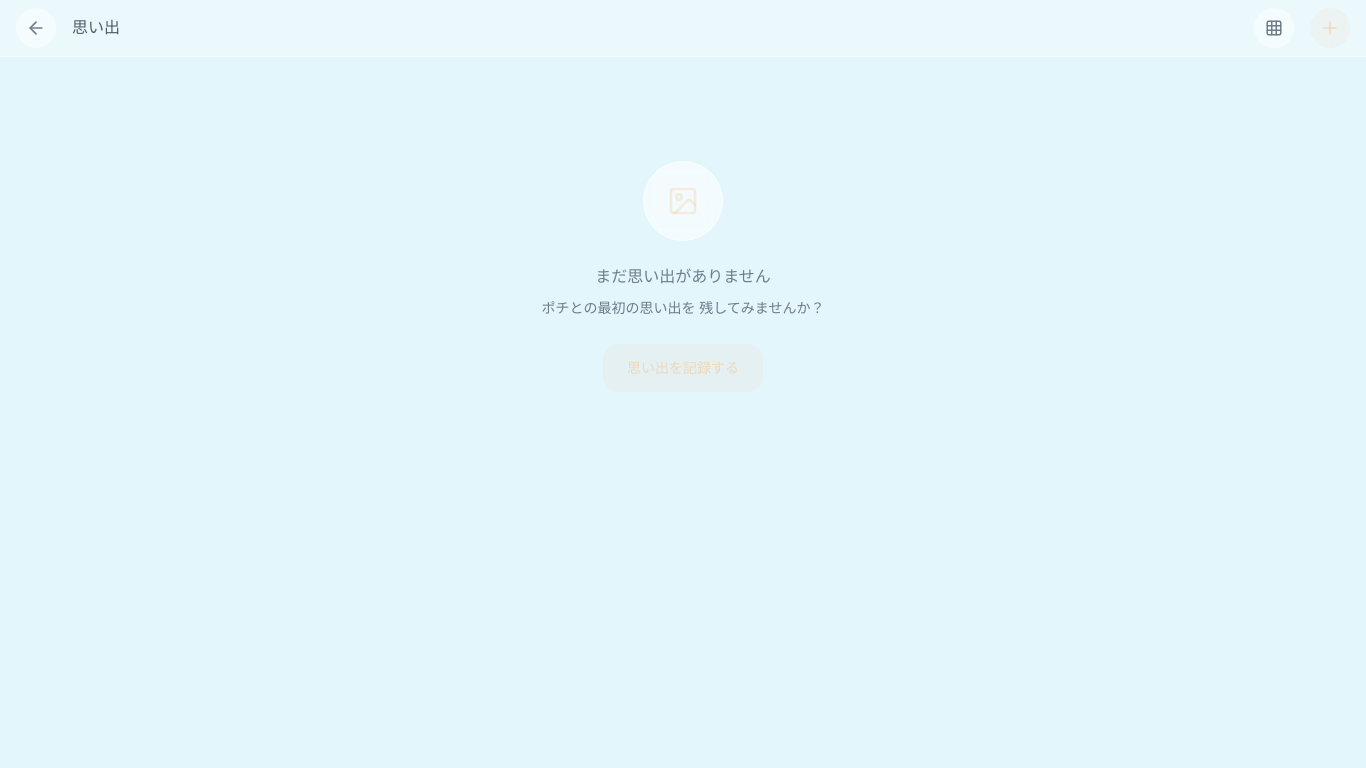
Scenario: TimelineScreen — 保存完了フィードバック › 閉じるボタンをクリックするとモーダルが閉じる
Click the button "思い出を記録する": (683, 368) top-left (603, 344), bottom-right (763, 392)
(page scrolled)
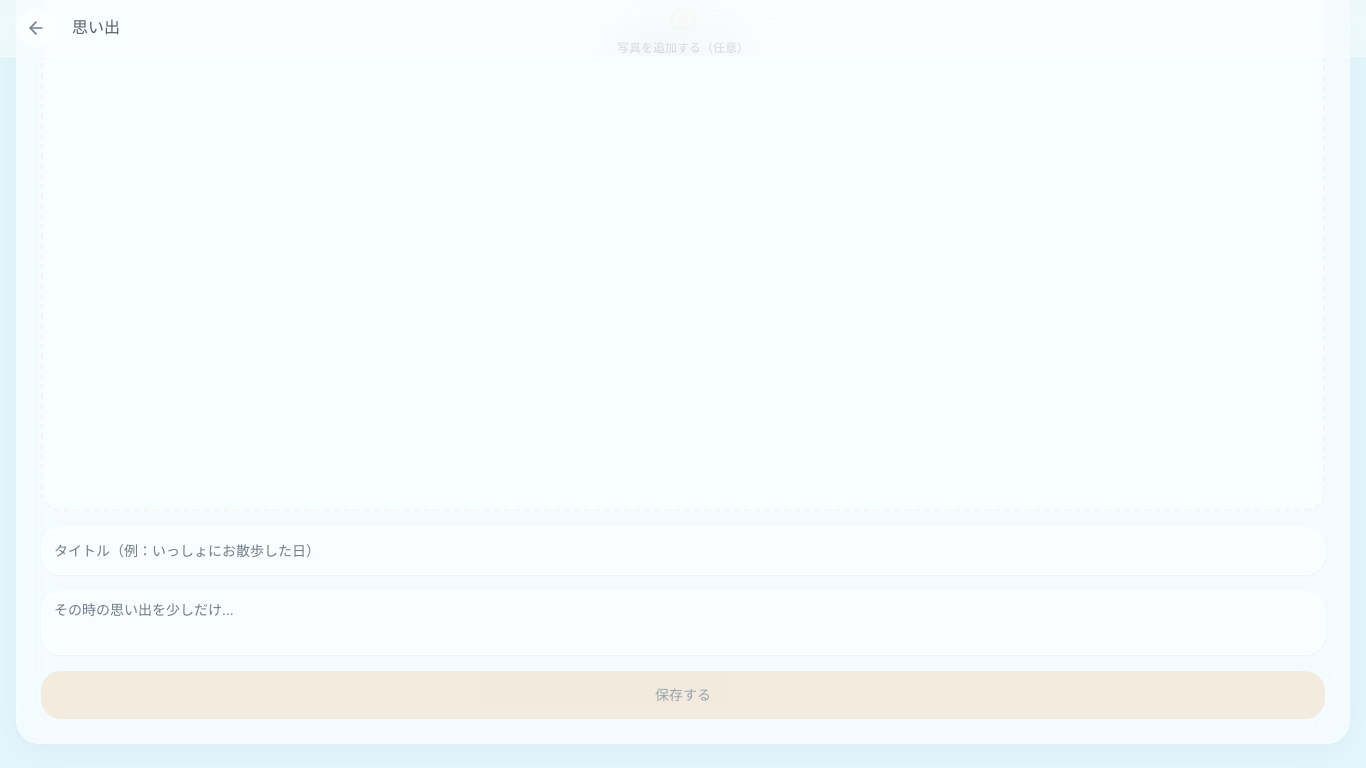
In the field with placeholder "タイトル（例：いっしょにお散歩した日）": (683, 551) top-left (41, 527), bottom-right (1325, 575), type "散歩した日"
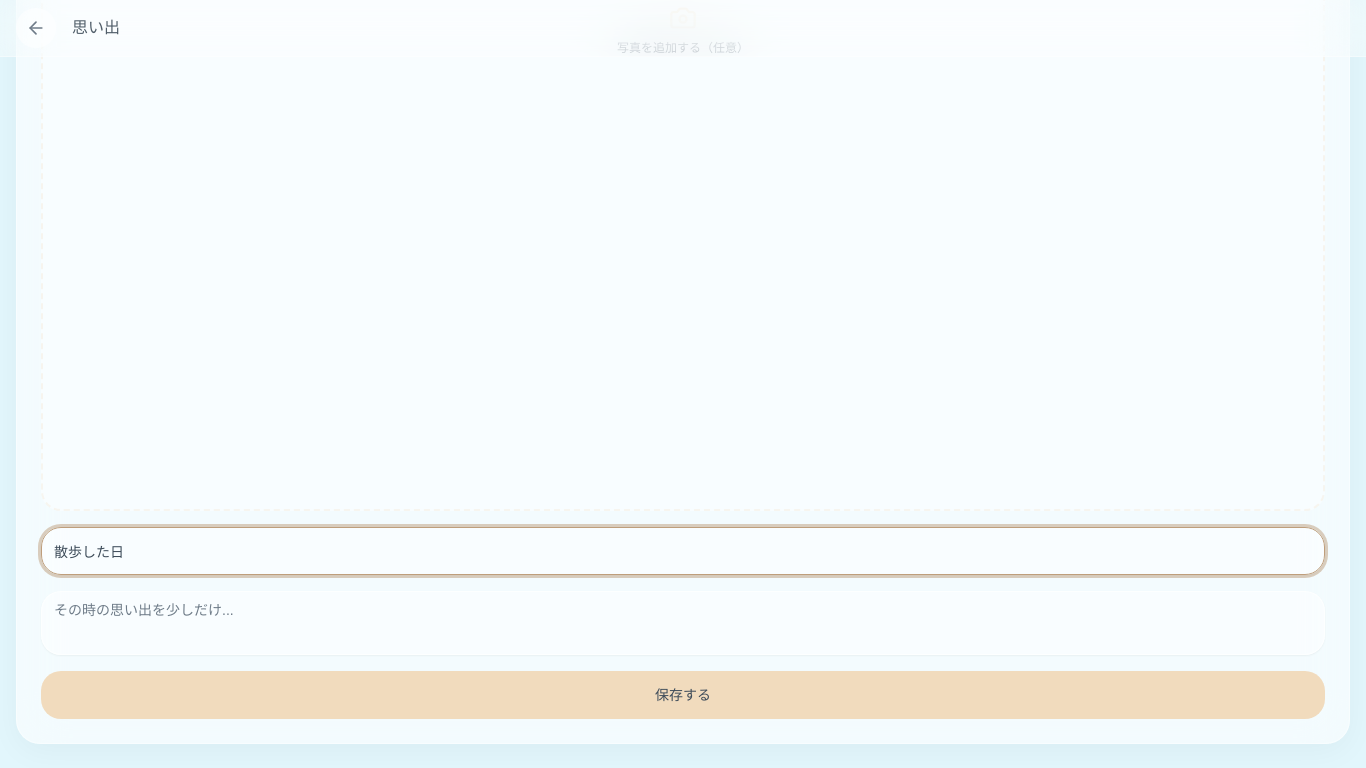
Click the button "保存する": (683, 695) top-left (41, 671), bottom-right (1325, 719)
(page scrolled)
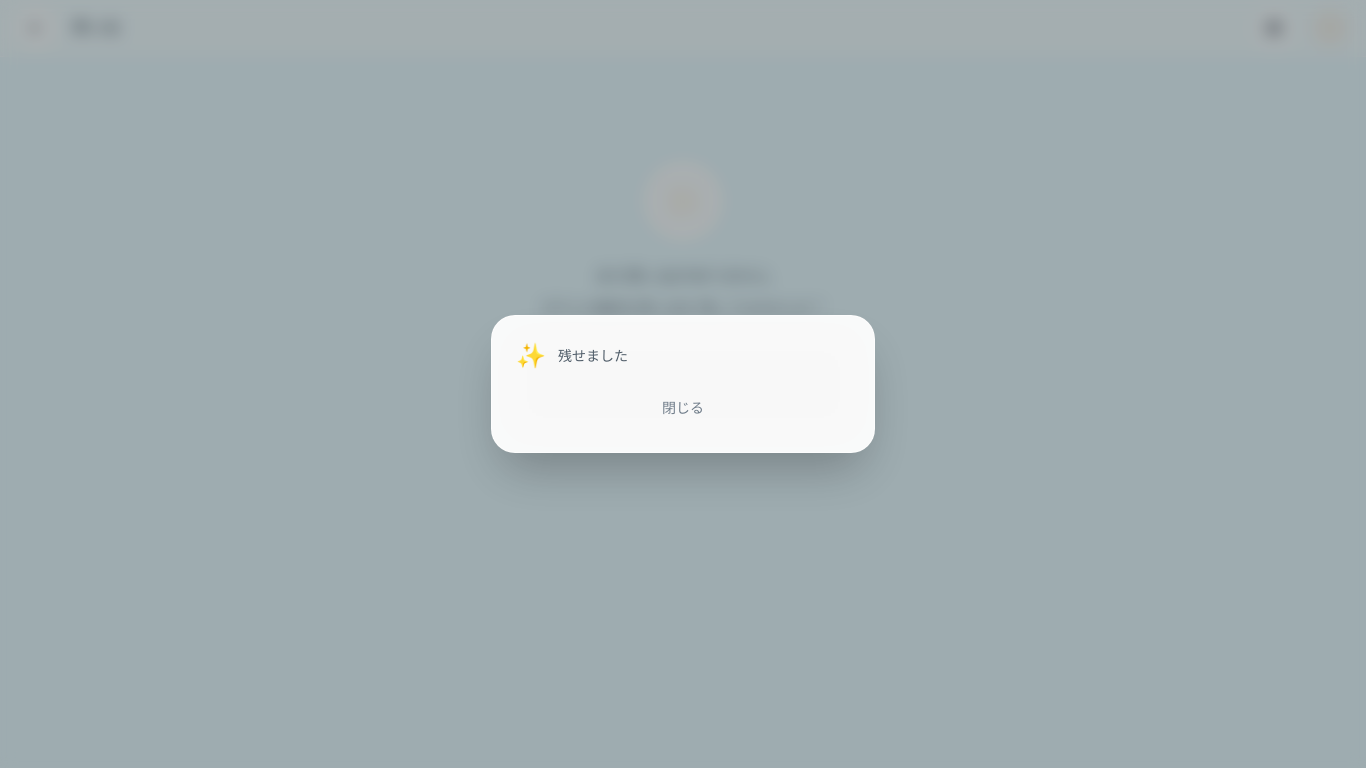
Result: the text "残せました" is shown at top-left (558, 346), bottom-right (628, 366)
Click the button "閉じる": (683, 408) top-left (516, 388), bottom-right (850, 428)
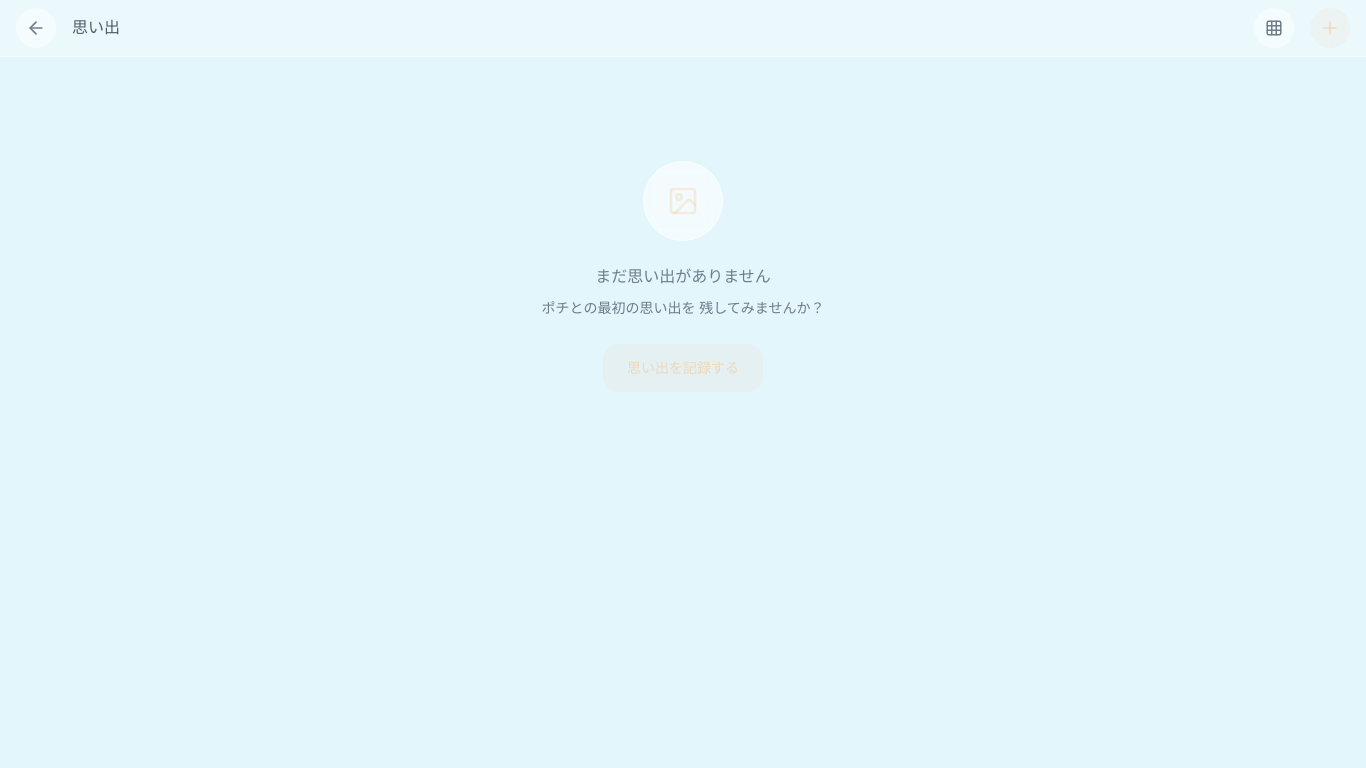
Result: the text "残せました" is gone
